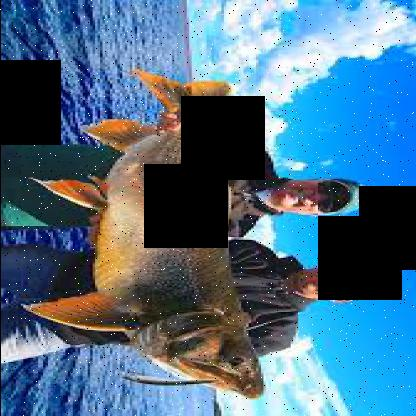fish: (32, 60, 274, 398)
